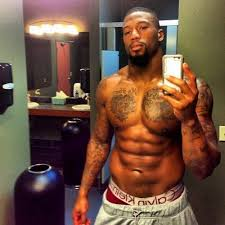black_male: (114, 1, 164, 71)
